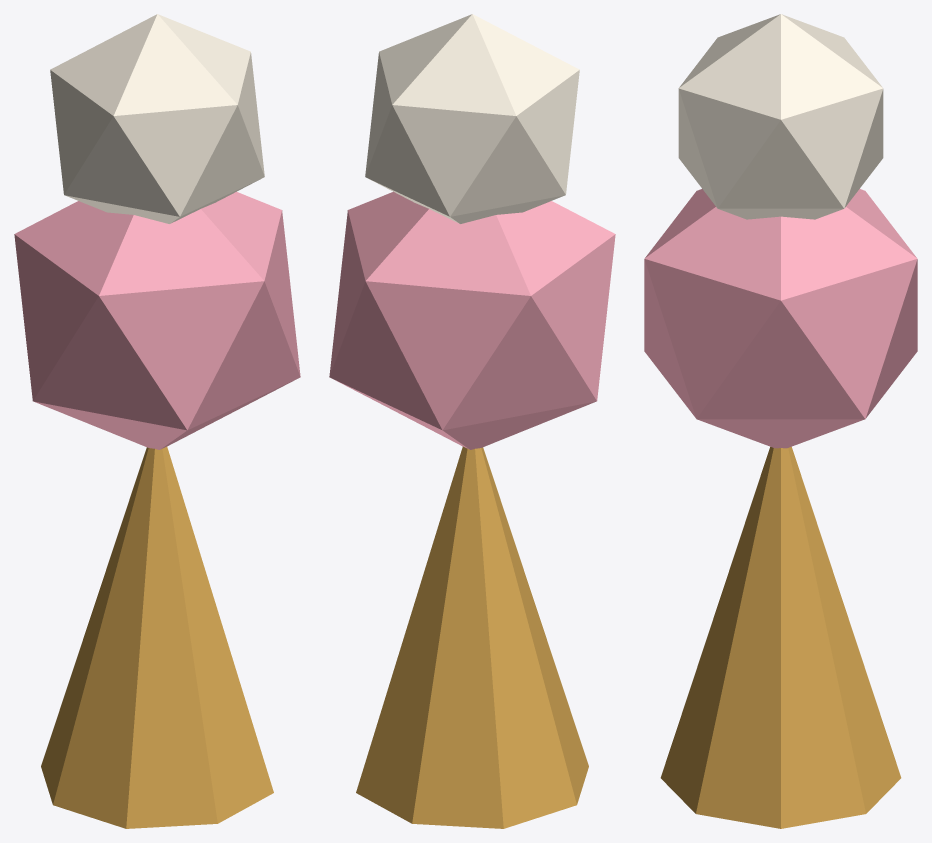
Rendered from ice_cream_cone.glb.
The picture shows the model from 3 angles, left to right: view 1: azimuth 30°, elevation 25°; view 2: azimuth 150°, elevation 25°; view 3: azimuth 270°, elevation 25°; orthographic projection.
Parts seen in each view (by area): view 1: ice_cream_cone; view 2: ice_cream_cone; view 3: ice_cream_cone.
Boxes of the visible parts, box(x1,y1,x2,y2) form: ice_cream_cone: box(14, 14, 300, 828); ice_cream_cone: box(329, 14, 615, 828); ice_cream_cone: box(644, 14, 917, 828).
Size of the model in its own units: 0.0716 by 0.21 by 0.0681.
